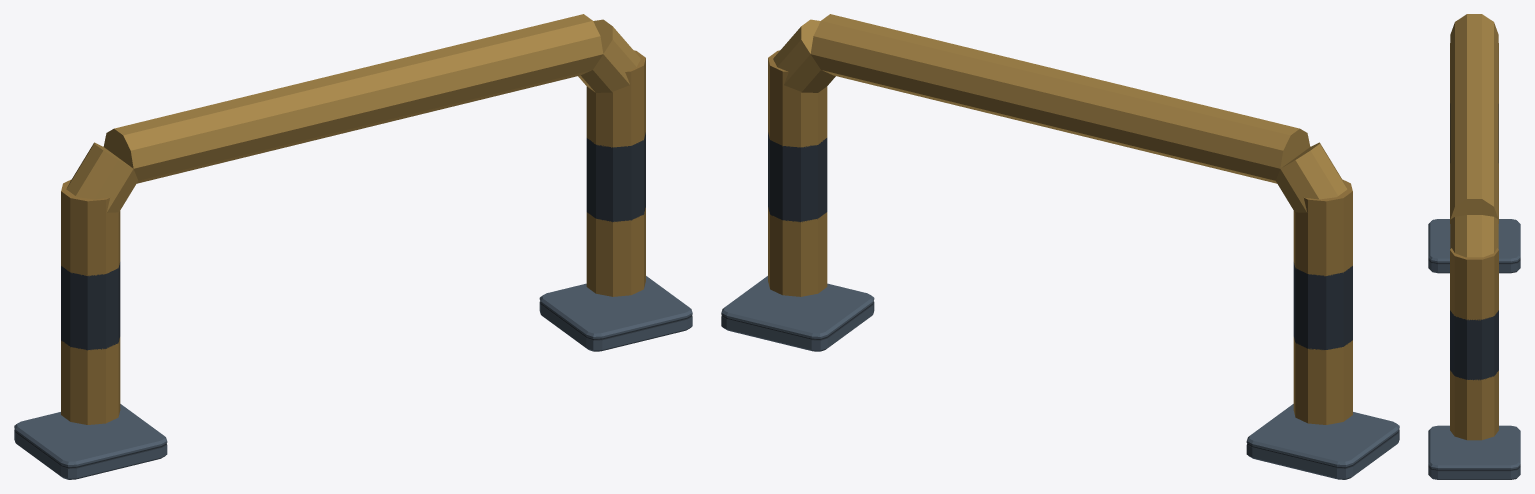
Rendered from HD-03_dock_guard.glb.
The picture shows the model from 3 angles, left to right: view 1: azimuth 30°, elevation 25°; view 2: azimuth 150°, elevation 25°; view 3: azimuth 270°, elevation 25°; orthographic projection. The views are drawn at different scales.
Parts seen in each view (by area): view 1: HD-03_dock_guard; view 2: HD-03_dock_guard; view 3: HD-03_dock_guard.
Part boxes in pixels (left/top/right/bottom): HD-03_dock_guard: left=14, top=14, right=692, bottom=479; HD-03_dock_guard: left=721, top=14, right=1399, bottom=479; HD-03_dock_guard: left=1428, top=14, right=1520, bottom=479.
Size of the model in its own units: 2.04 by 0.9599 by 0.32.
